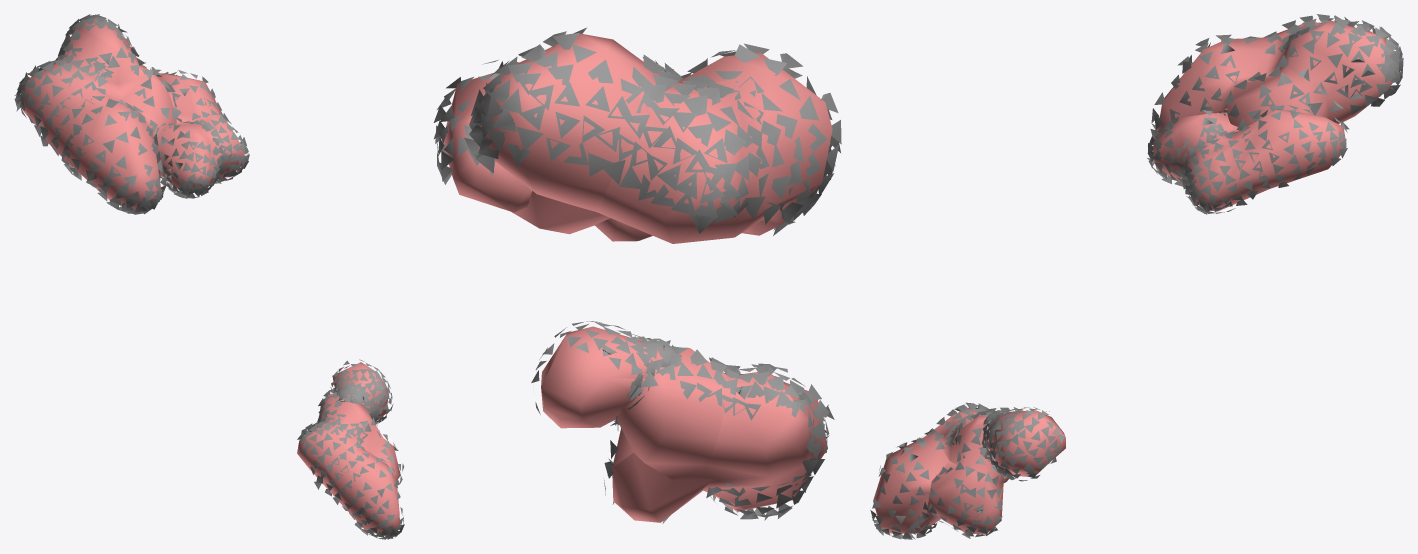
File: SM_ENV_LKNVLD_TreeSet_R_Lod3.gltf
The picture shows the model from 3 angles, left to right: view 1: azimuth 30°, elevation 25°; view 2: azimuth 150°, elevation 25°; view 3: azimuth 270°, elevation 25°; orthographic projection. The views are drawn at different scales.
Visible parts, largest first — view 1: SM_ENV_LKNVLD_TreeSet_R_Lod3; view 2: SM_ENV_LKNVLD_TreeSet_R_Lod3; view 3: SM_ENV_LKNVLD_TreeSet_R_Lod3.
Boxes of the visible parts, <box> form: SM_ENV_LKNVLD_TreeSet_R_Lod3: <box>14,14,404,539</box>; SM_ENV_LKNVLD_TreeSet_R_Lod3: <box>433,27,841,523</box>; SM_ENV_LKNVLD_TreeSet_R_Lod3: <box>870,14,1403,539</box>.
Bounding box in the file's own units: 22.65 × 36.82 × 38.29.
